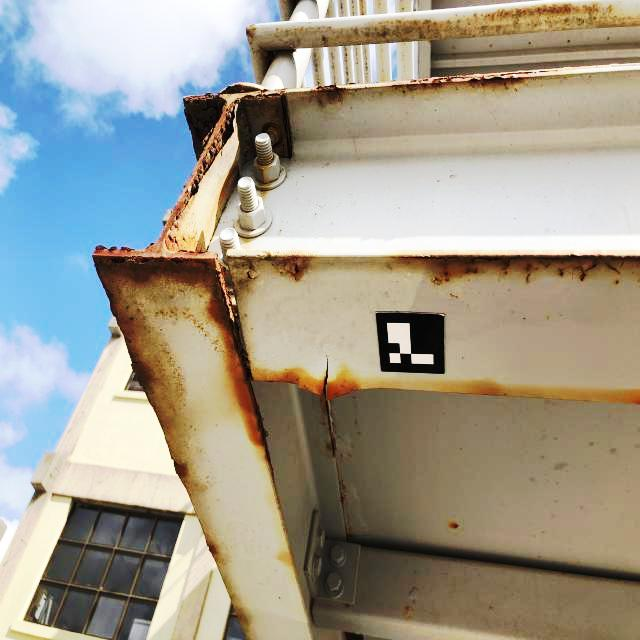Corrosion: (91, 83, 359, 477), (386, 249, 640, 287), (316, 68, 566, 97), (487, 2, 577, 22), (278, 252, 308, 280), (394, 16, 435, 25), (174, 461, 189, 479), (244, 264, 255, 281), (246, 25, 255, 40), (207, 543, 215, 553)
